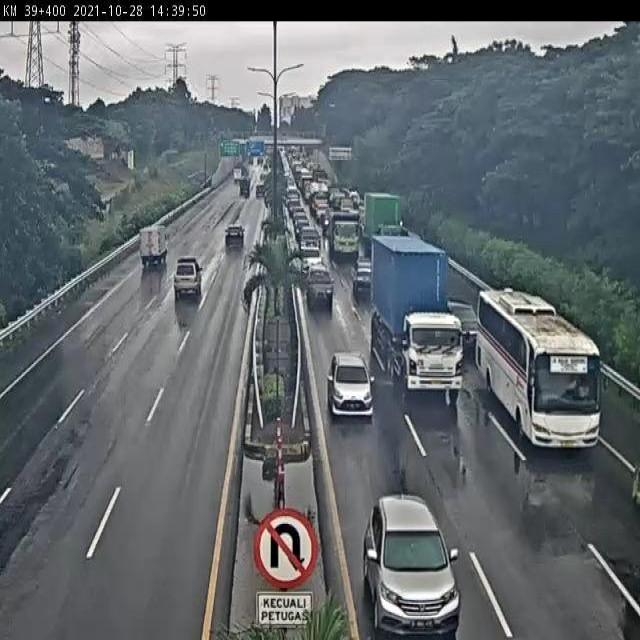big bus: (478, 289, 602, 451)
big truck: (371, 235, 461, 405)
car: (364, 488, 462, 632), (327, 352, 376, 420), (444, 297, 486, 352), (305, 269, 338, 312), (173, 257, 204, 295), (352, 259, 377, 297), (299, 224, 324, 256), (225, 225, 247, 248)
mid truck: (325, 212, 361, 257)
small truck: (137, 223, 172, 265)
